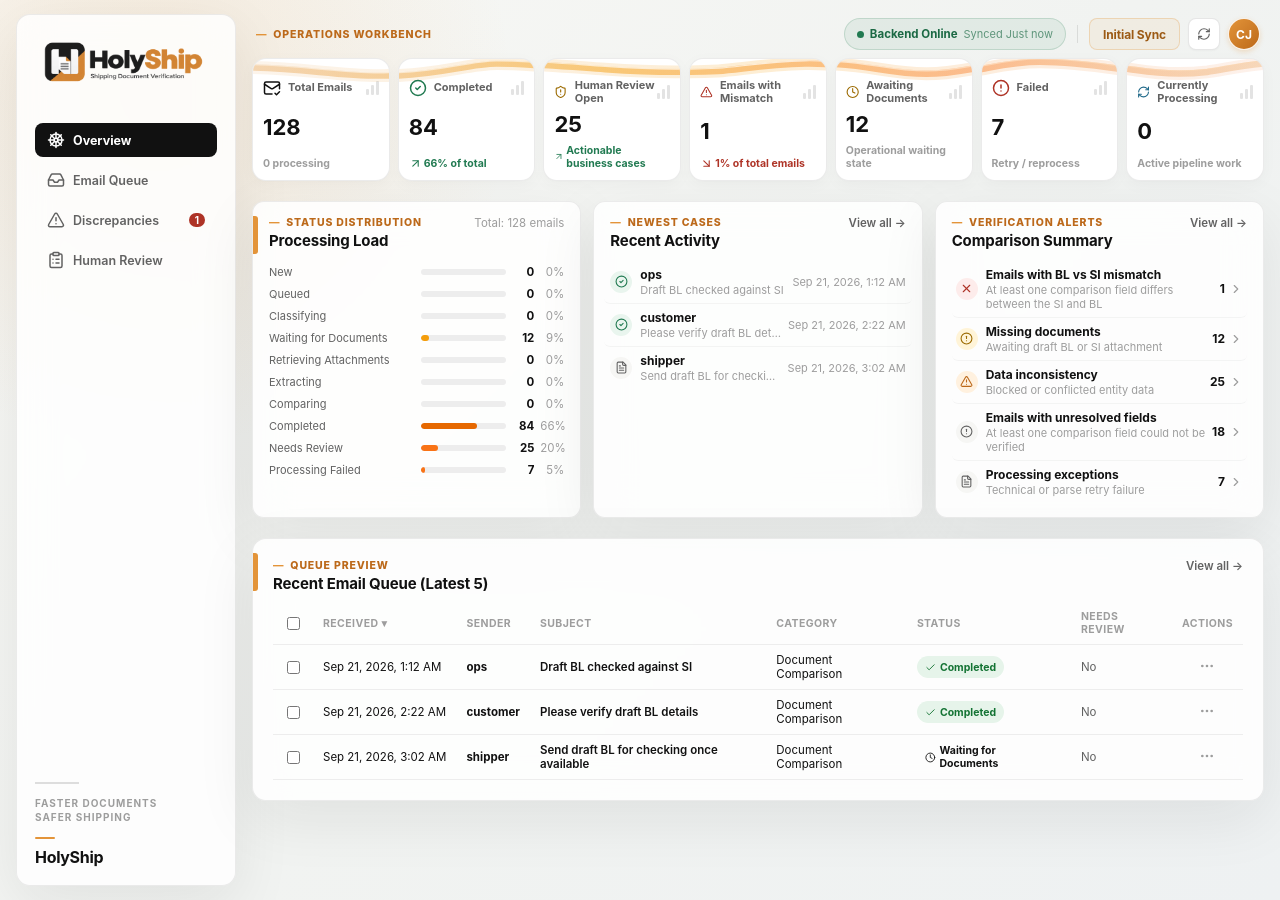
Confirmed Discrepancies Workspace › navigates to Discrepancies workspace and renders confirmed differences
Click Discrepancies in sidebar navigation
Click the button "Discrepancies 1".
click(126, 220)  # box [35,203,217,237]
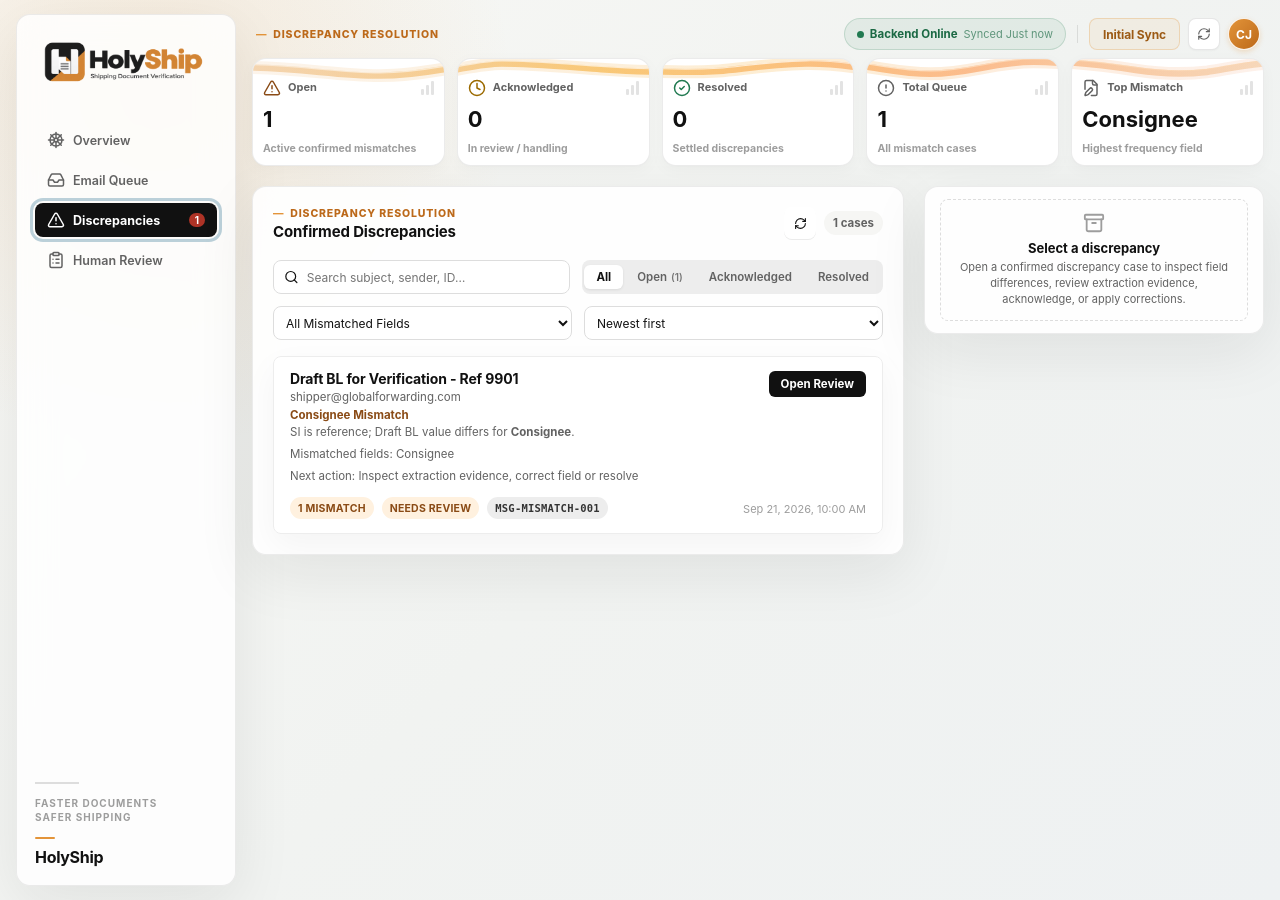
Expected: the text "Confirmed Differences" is not shown
Now the text "MSG-MISMATCH-001" is shown, box [487,497,608,519]
Click the button "Open Review".
click(817, 384)  # box [769,371,866,397]
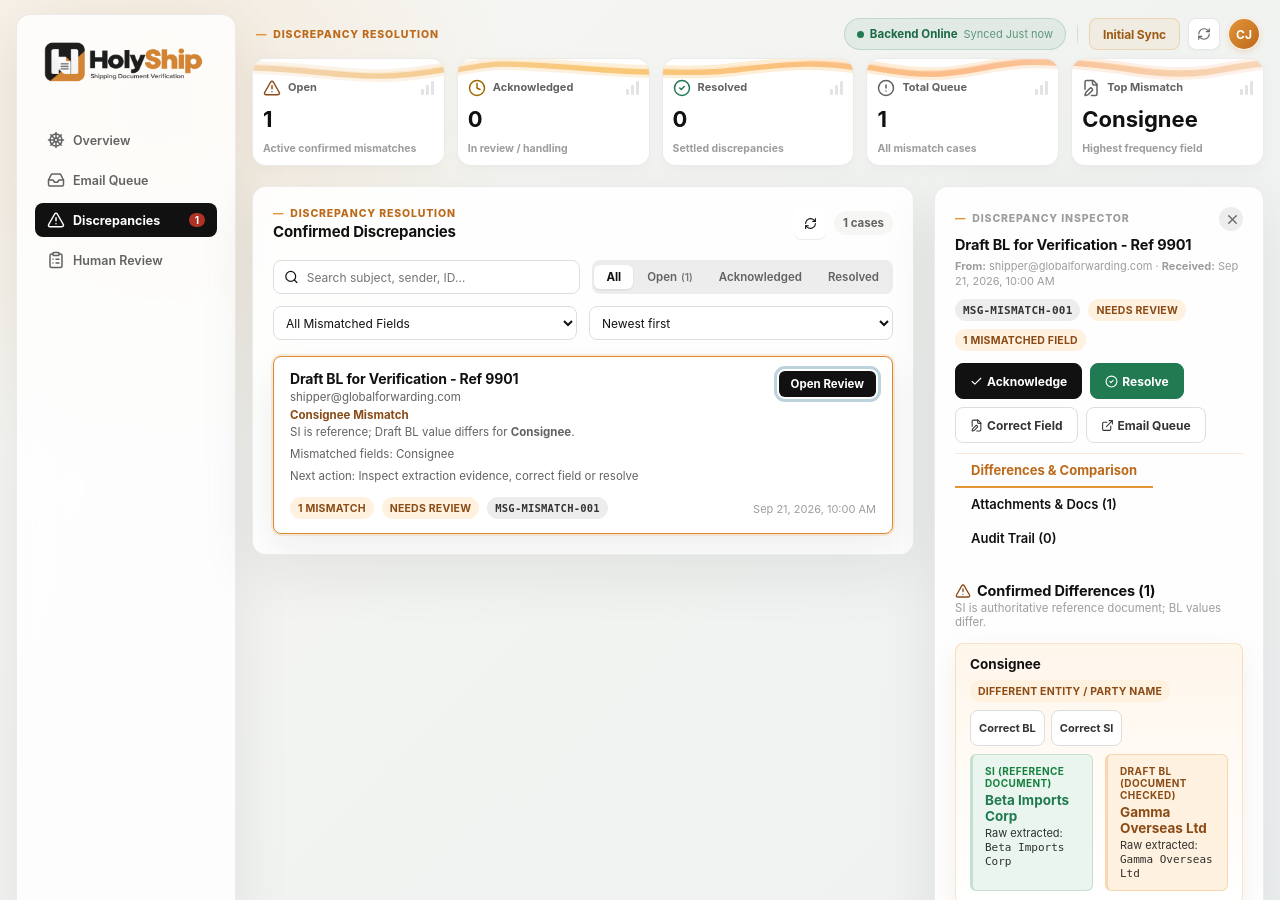
Now the heading "Confirmed Differences (1)" is shown, box [955,582,1155,599]
Now the 1st text "Beta Imports Corp" is shown, box [985,792,1080,824]
Now the 1st text "Gamma Overseas Ltd" is shown, box [1120,804,1215,836]
